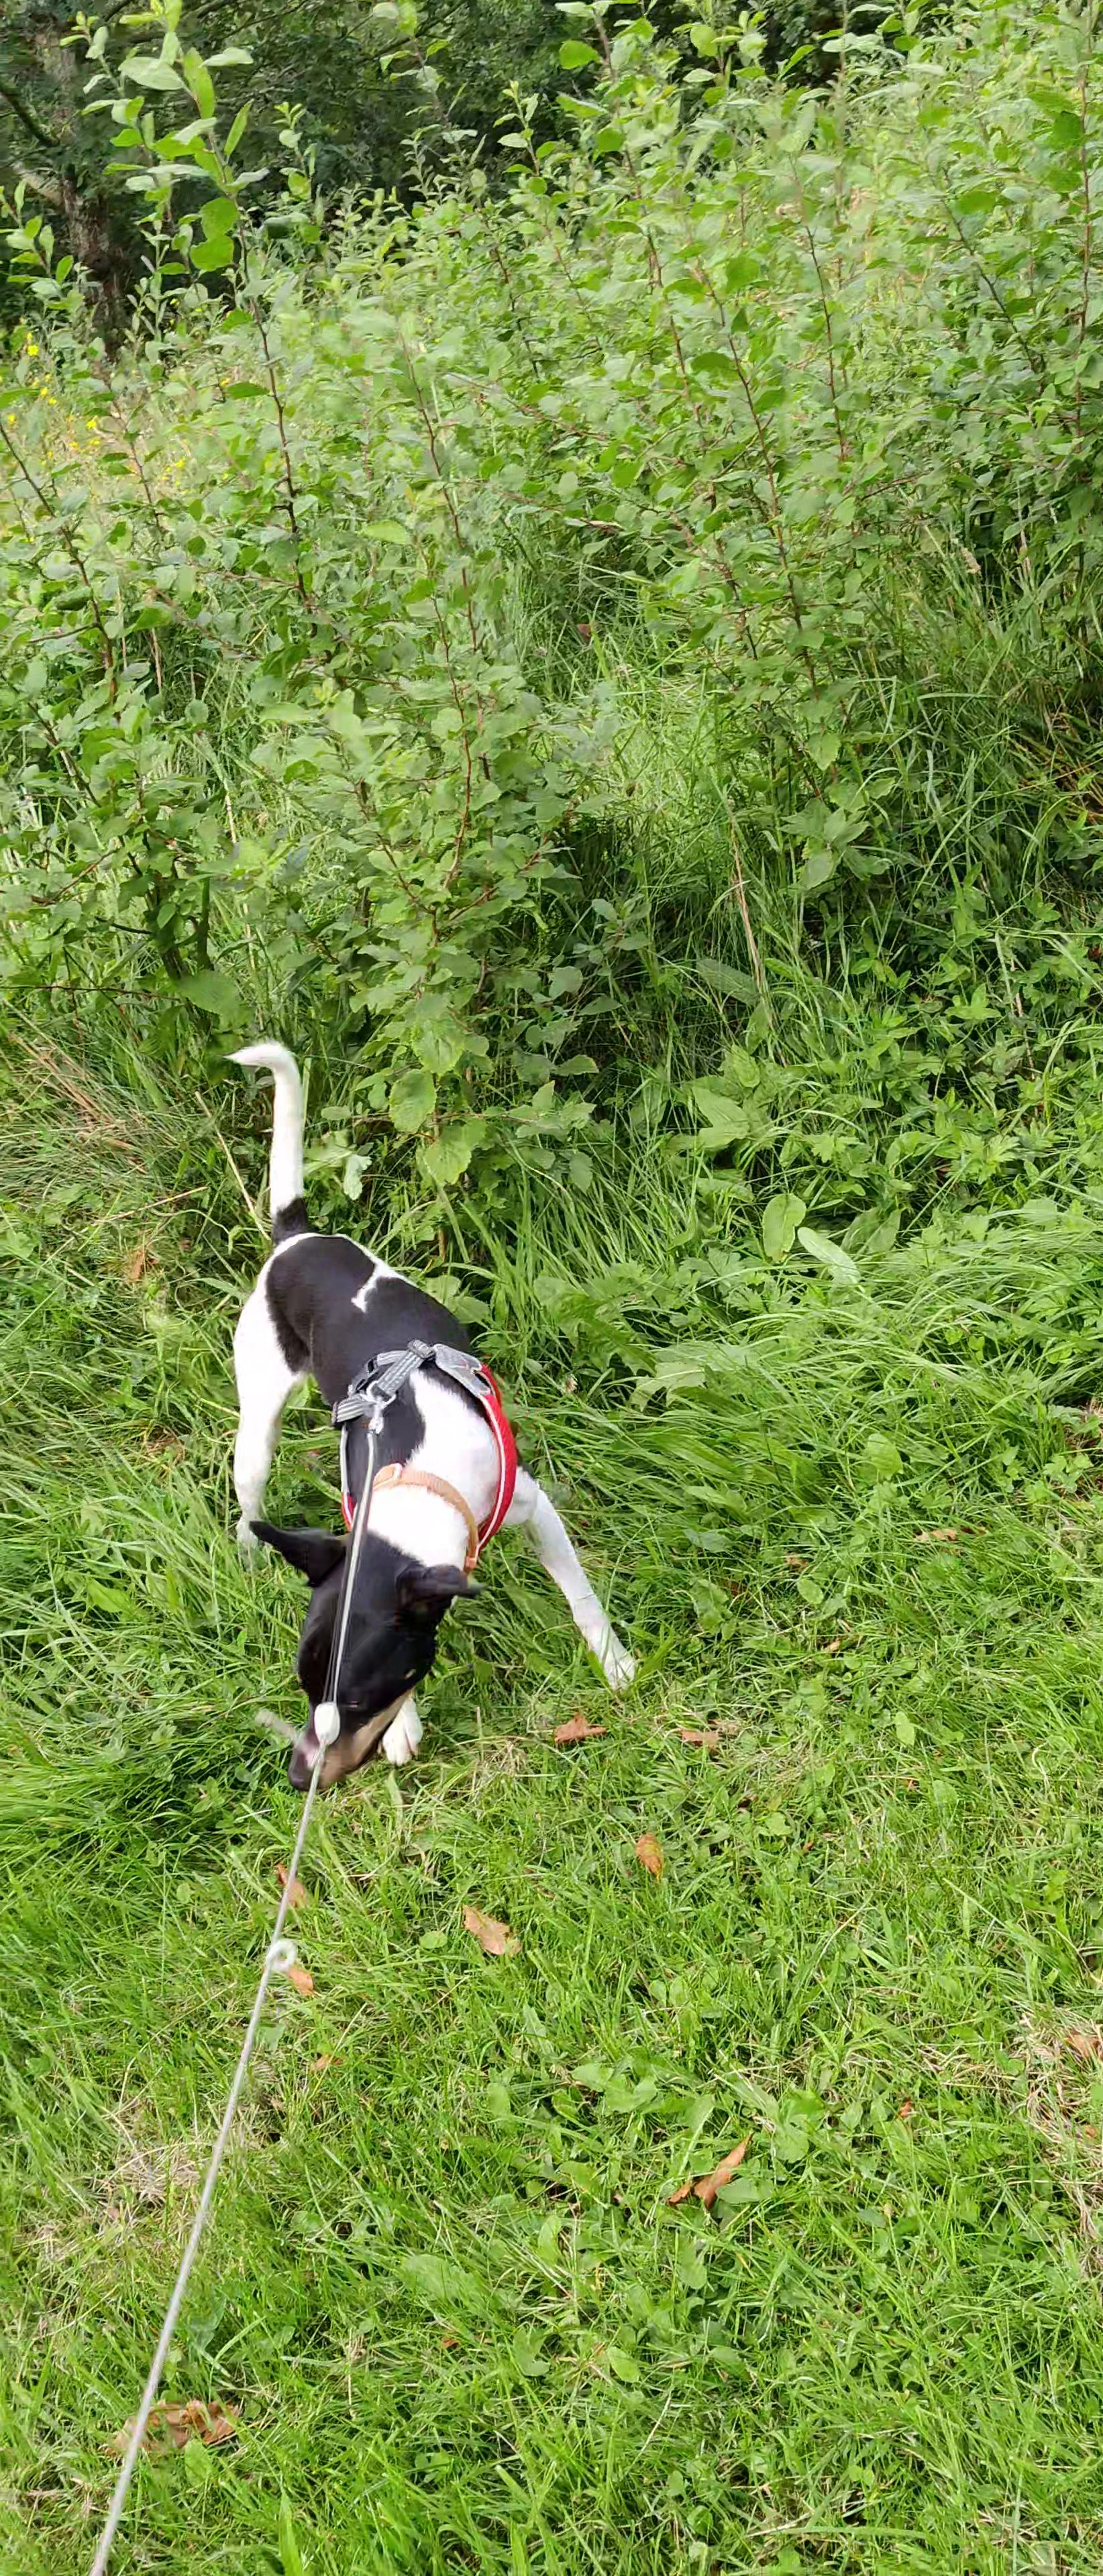Dog: (164, 1028, 661, 1820)
